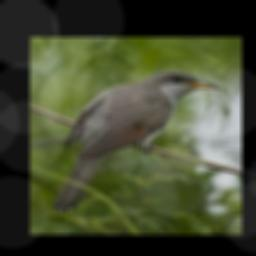Cuckoo: (53, 70, 219, 214)
